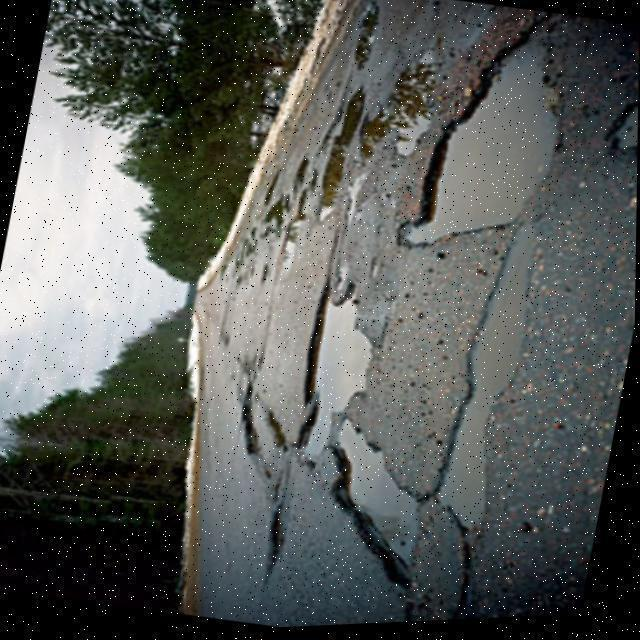Pothole: (293, 31, 548, 575), (613, 101, 639, 148)
